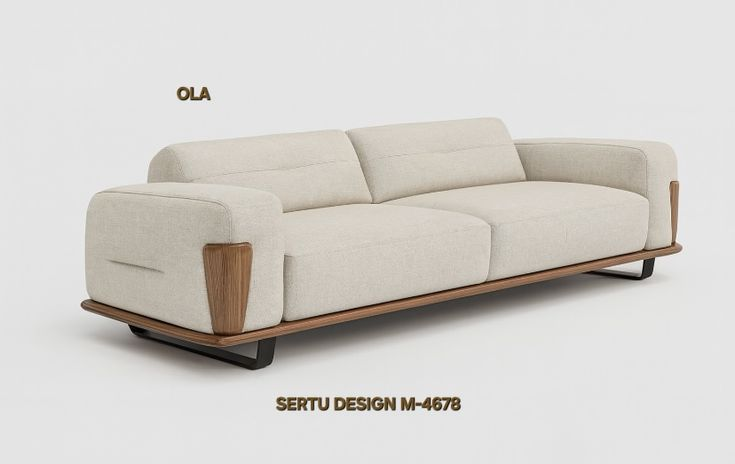3seatersofa: (81, 118, 681, 369)
backrest: (151, 118, 524, 211)
base: (81, 242, 682, 345)
leftarmrest: (516, 139, 677, 248)
leg: (131, 325, 274, 369), (591, 258, 654, 279)
rightarmrest: (86, 184, 283, 333)
seat: (284, 181, 653, 317)
